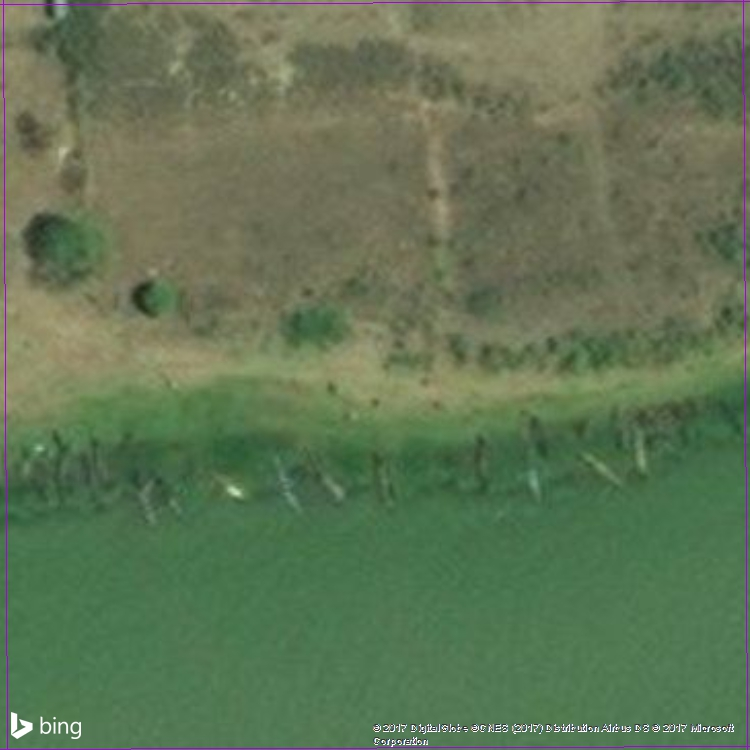boat: (119, 451, 165, 538), (44, 421, 88, 505), (263, 442, 307, 523), (304, 440, 353, 511), (518, 410, 553, 509), (567, 442, 628, 493), (69, 442, 109, 517), (464, 432, 504, 502), (78, 424, 118, 493), (150, 457, 191, 524), (626, 410, 662, 486), (204, 461, 254, 505), (366, 442, 392, 518), (380, 443, 407, 513)
